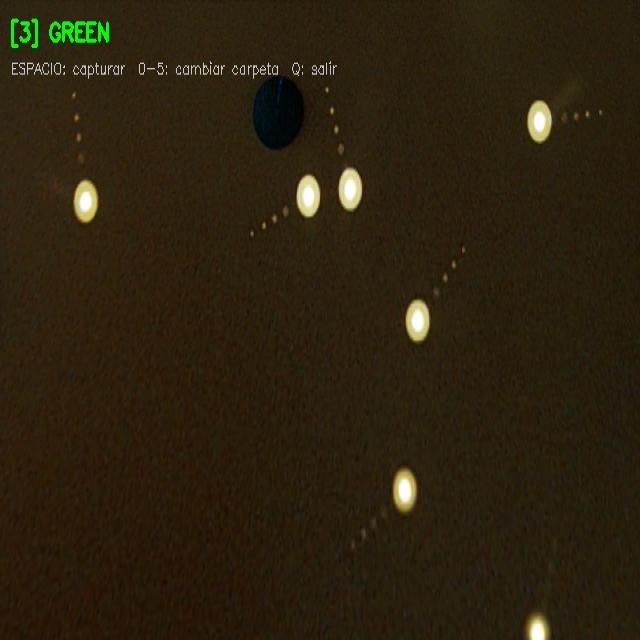green: (252, 75, 306, 154)
